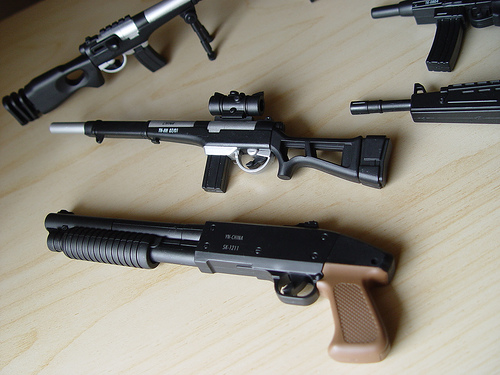pistol: (24, 207, 407, 355), (19, 102, 403, 201)
